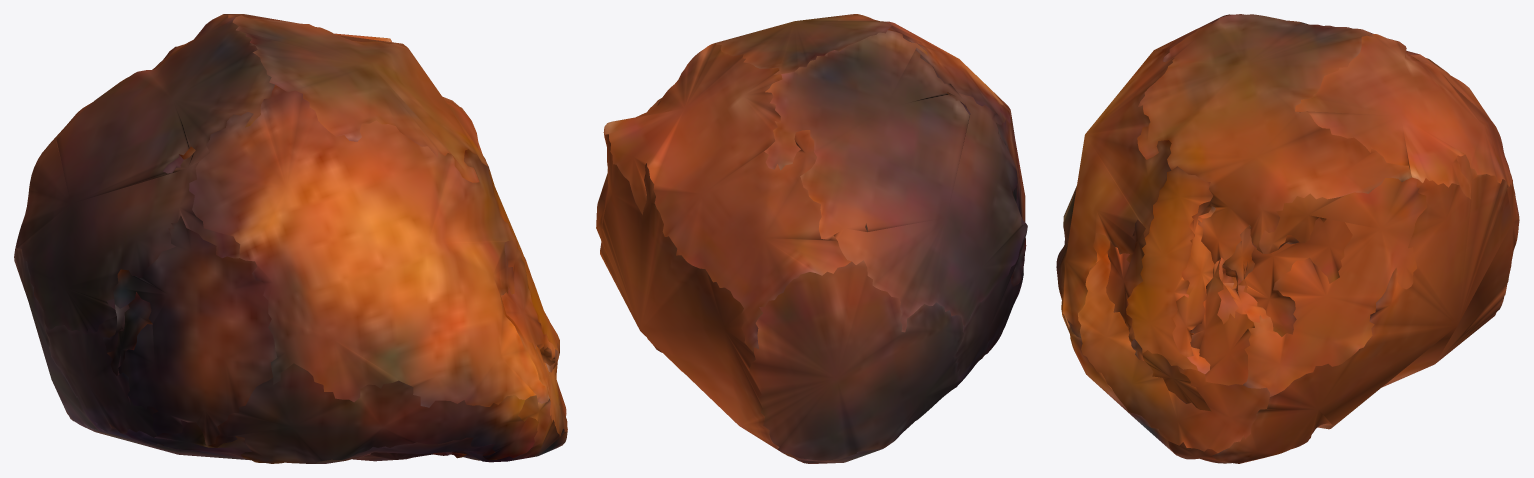
Rendered from 6_orange,_fruit.glb.
The picture shows the model from 3 angles, left to right: view 1: azimuth 30°, elevation 25°; view 2: azimuth 150°, elevation 25°; view 3: azimuth 270°, elevation 25°; orthographic projection. The views are drawn at different scales.
Parts seen in each view (by area): view 1: 6_orange,_fruit; view 2: 6_orange,_fruit; view 3: 6_orange,_fruit.
Boxes of the visible parts, box(x1,y1,x2,y2) form: 6_orange,_fruit: box(14, 14, 567, 463); 6_orange,_fruit: box(596, 14, 1027, 463); 6_orange,_fruit: box(1056, 14, 1519, 463).
Bounding box in the file's own units: 0.1464 × 0.1321 × 0.1545.
Materials: 1 (1 with a texture image).
